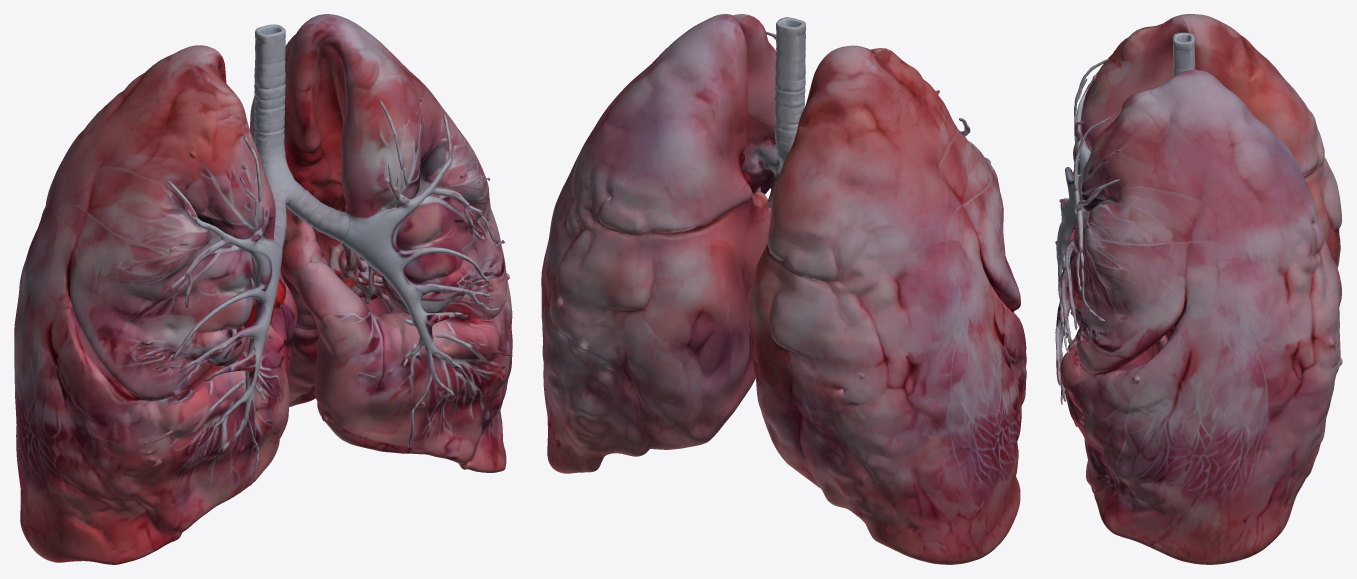
File: lungs.glb
The picture shows the model from 3 angles, left to right: view 1: azimuth 30°, elevation 25°; view 2: azimuth 150°, elevation 25°; view 3: azimuth 270°, elevation 25°; orthographic projection. The views are drawn at different scales.
Visible parts, largest first — view 1: tripo_node_6c69859a-6836-4213-b81e-34d5aac217eb; view 2: tripo_node_6c69859a-6836-4213-b81e-34d5aac217eb; view 3: tripo_node_6c69859a-6836-4213-b81e-34d5aac217eb.
Boxes of the visible parts, bbox=[...] form: tripo_node_6c69859a-6836-4213-b81e-34d5aac217eb: bbox=[14, 14, 512, 564]; tripo_node_6c69859a-6836-4213-b81e-34d5aac217eb: bbox=[541, 14, 1026, 564]; tripo_node_6c69859a-6836-4213-b81e-34d5aac217eb: bbox=[1055, 14, 1342, 564].
Size of the model in its own units: 0.9862 by 1 by 0.6003.
Materials: 1 (1 with a texture image).
